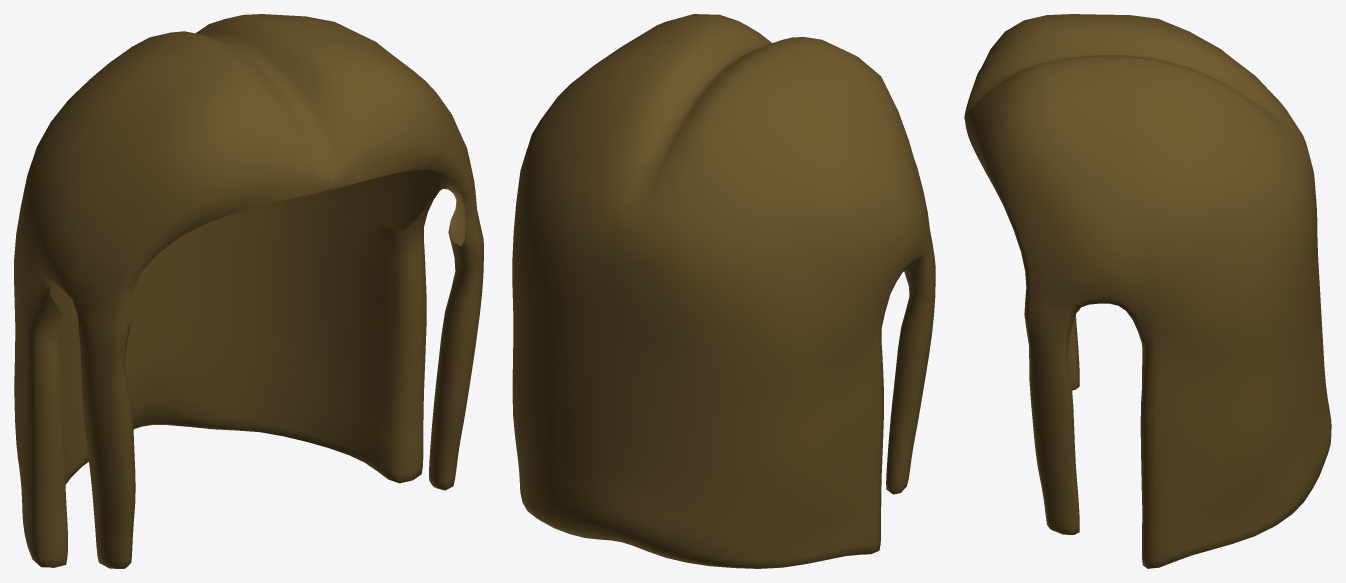
The model's file is Hair03.fbx.
3 views of the same model, side by side, from view 1: azimuth 30°, elevation 25°; view 2: azimuth 150°, elevation 25°; view 3: azimuth 270°, elevation 25° (orthographic). The views are drawn at different scales.
Visible parts, largest first — view 1: Hair4; view 2: Hair4; view 3: Hair4.
Part boxes in pixels (box(x1,y1,x2,y2)): Hair4: box(14, 14, 483, 568); Hair4: box(512, 14, 935, 568); Hair4: box(964, 14, 1331, 568).
Size of the model in its own units: 12.36 by 14.36 by 10.71.
